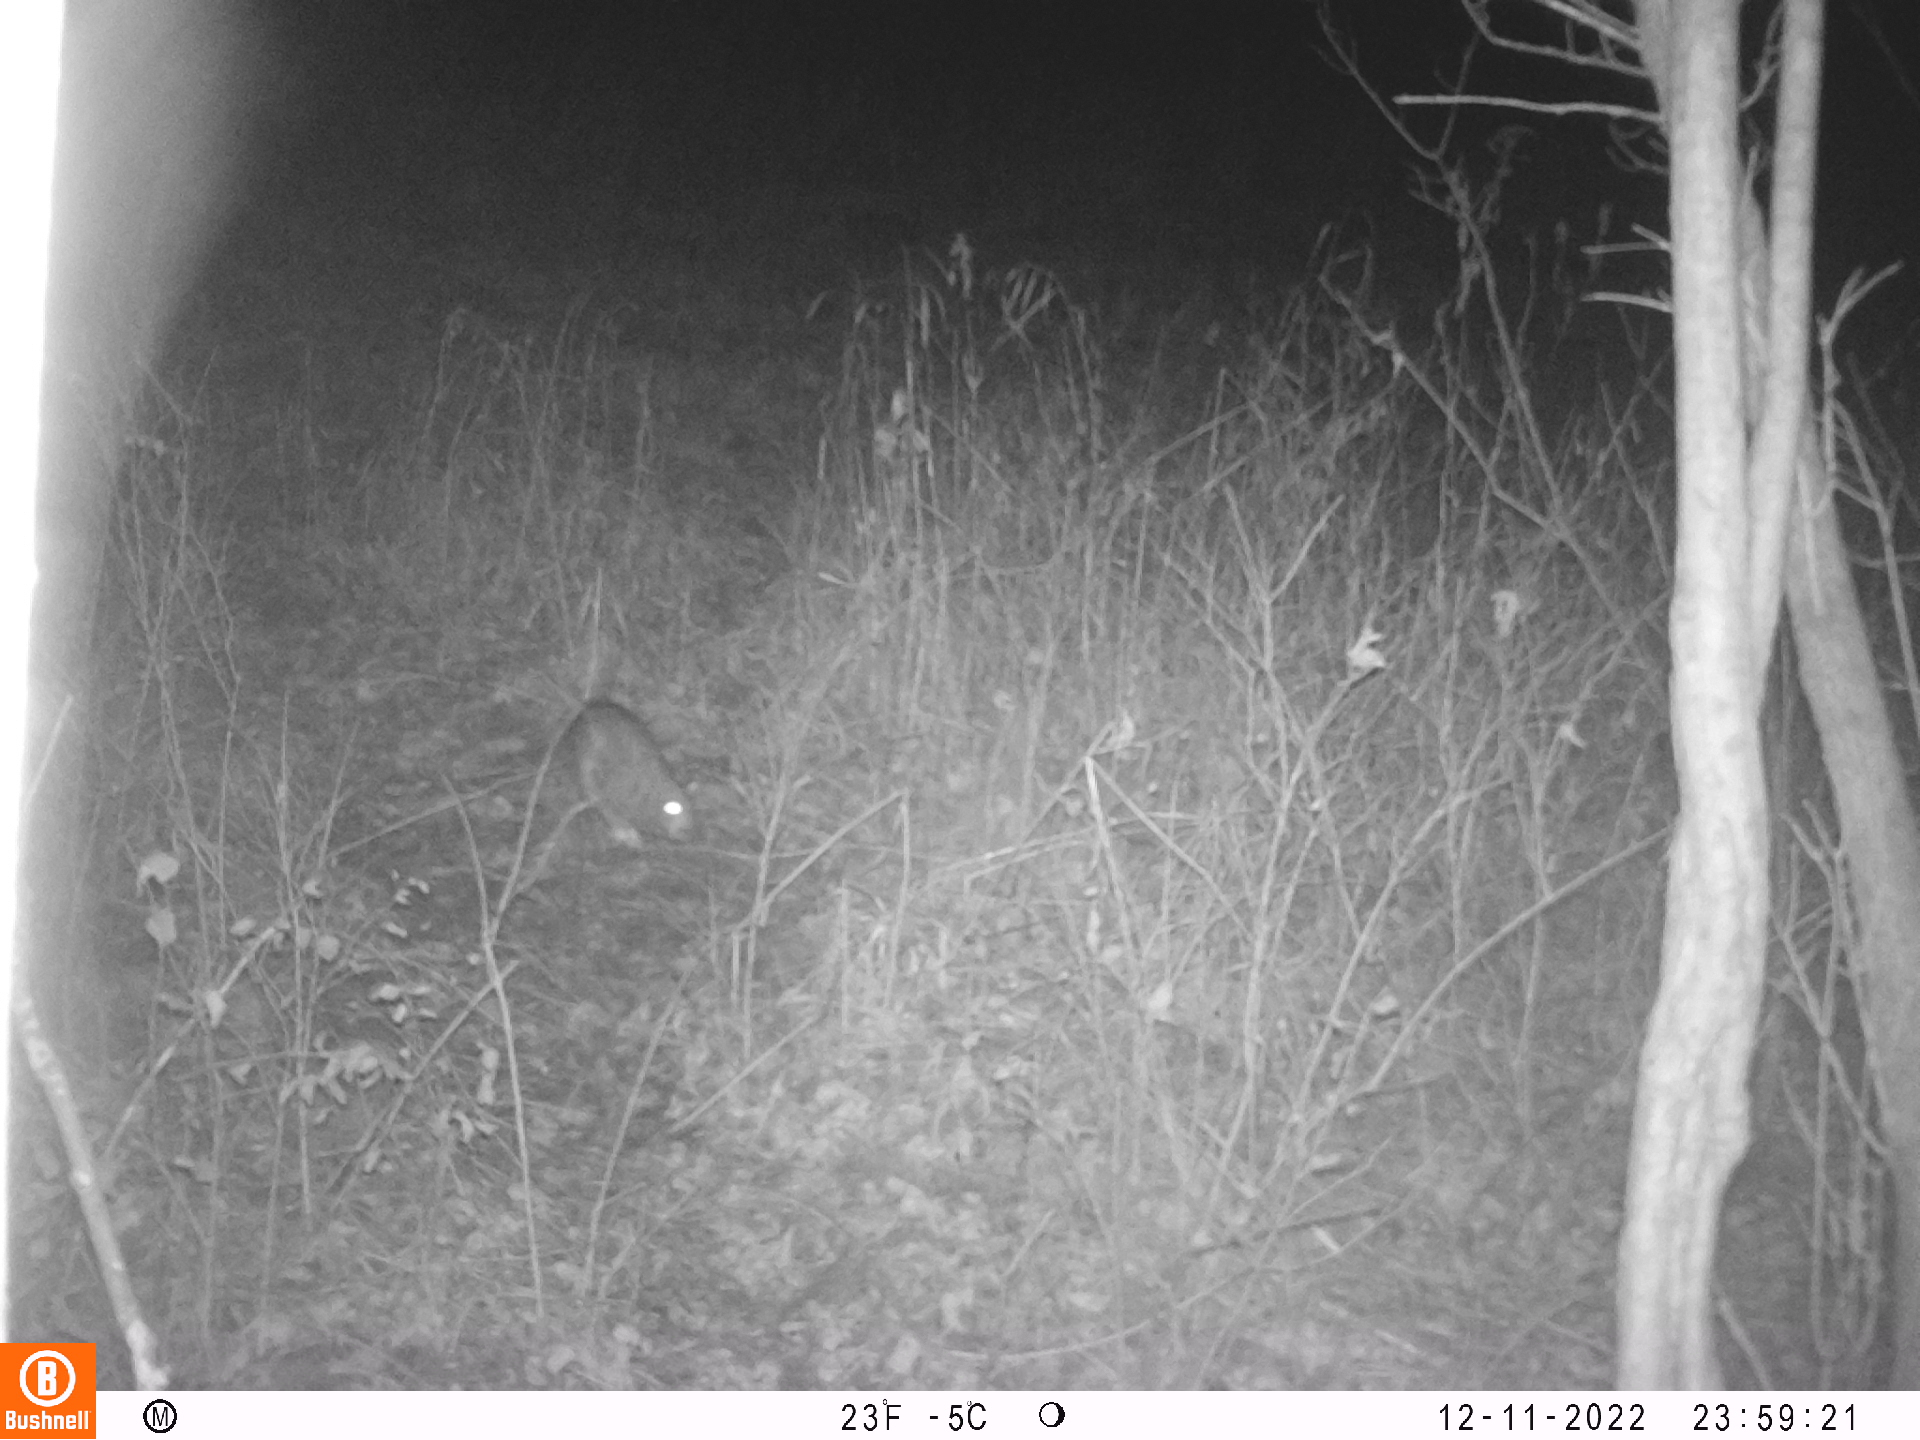Rabbit: (565, 694, 698, 844)
